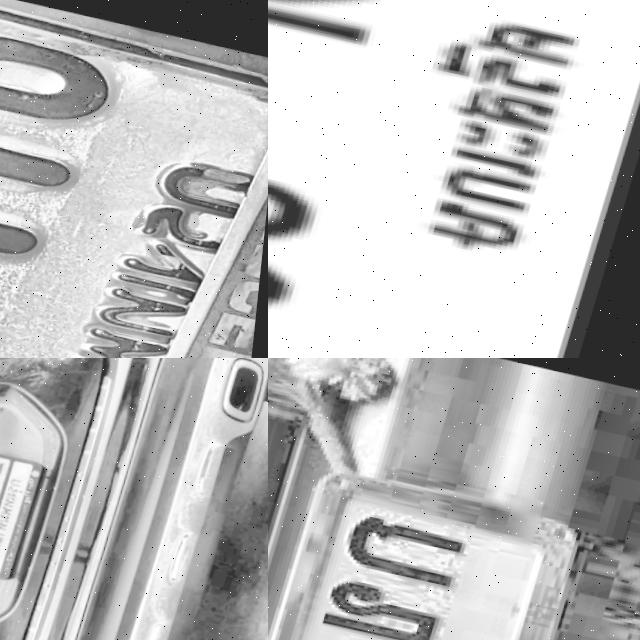license-plate: (268, 0, 640, 358), (0, 0, 268, 358), (268, 457, 590, 640), (0, 444, 51, 580)
